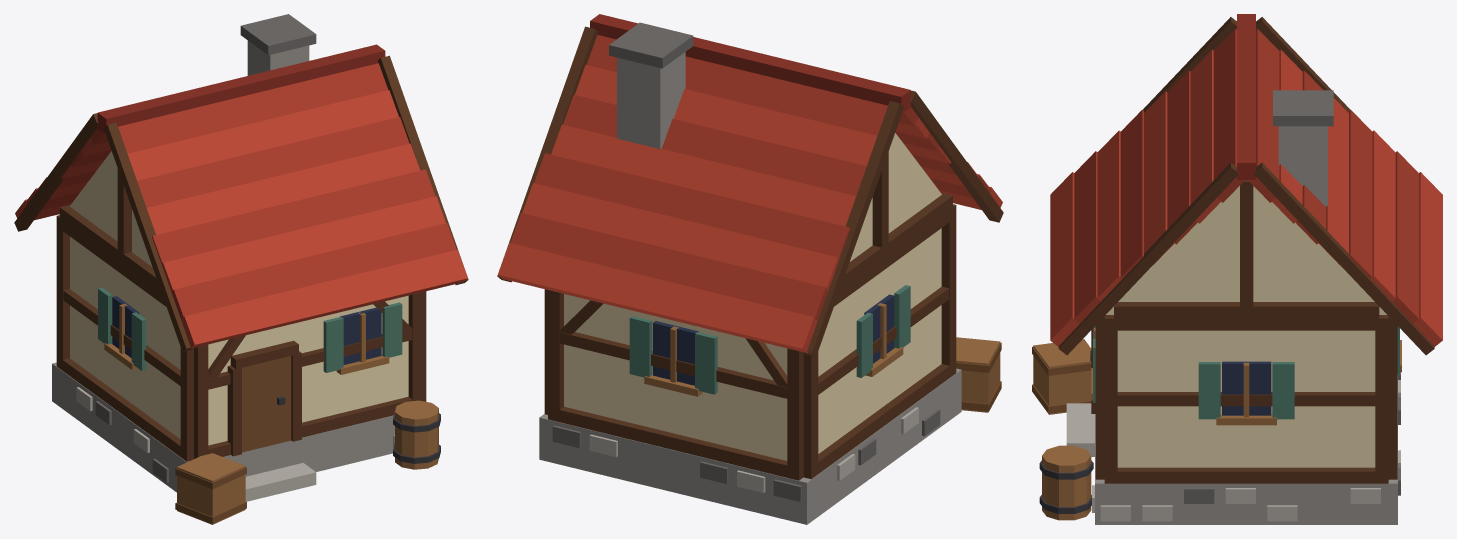
File: house_4.glb
3 views of the same model, side by side, from view 1: azimuth 30°, elevation 25°; view 2: azimuth 150°, elevation 25°; view 3: azimuth 270°, elevation 25° (orthographic). The views are drawn at different scales.
Visible parts, largest first — view 1: roof_red, roof_red_mid, timber, plaster, stone, plank, ridge, plank_dark, shutter, stone_dark, stone_light, window (+1 smaller); view 2: roof_red, roof_red_mid, timber, plaster, stone, ridge, stone_dark, shutter, plank, window, stone_light, plank_dark; view 3: plaster, timber, roof_red, roof_red_mid, stone, plank, stone_light, ridge, shutter, stone_dark, window, iron (+1 smaller).
Part boxes in pixels (box(x1,y1,x2,y2)): roof_red: box(15, 90, 467, 348); roof_red_mid: box(26, 63, 456, 319); timber: box(14, 55, 468, 461); plaster: box(69, 151, 408, 445); stone: box(52, 40, 394, 492); plank: box(104, 303, 438, 524); ridge: box(97, 44, 385, 133); plank_dark: box(175, 356, 291, 523); shutter: box(98, 287, 402, 372); stone_dark: box(95, 14, 316, 482); stone_light: box(76, 387, 394, 501); window: box(112, 296, 381, 364); roof_red: box(498, 65, 1002, 353); roof_red_mid: box(510, 35, 990, 321); timber: box(497, 26, 1003, 480); plaster: box(564, 133, 941, 460); stone: box(539, 52, 961, 524); ridge: box(590, 14, 910, 113); stone_dark: box(552, 22, 940, 501); shutter: box(629, 285, 910, 394); plank: box(644, 303, 1000, 412); window: box(653, 294, 894, 385); stone_light: box(589, 407, 918, 492); plank_dark: box(956, 342, 1001, 411); plaster: box(1106, 186, 1386, 467); timber: box(1058, 17, 1434, 483); roof_red: box(1050, 50, 1442, 346); roof_red_mid: box(1074, 29, 1418, 323); stone: box(1095, 126, 1397, 524); plank: box(1033, 328, 1401, 520); stone_light: box(1066, 380, 1400, 521); ridge: box(1237, 14, 1255, 179); shutter: box(1093, 326, 1399, 419); stone_dark: box(1184, 90, 1400, 503); window: box(1222, 361, 1271, 415); iron: box(1039, 351, 1093, 513).
Bounding box in the file's own units: 1.88 × 2.28 × 2.17.
